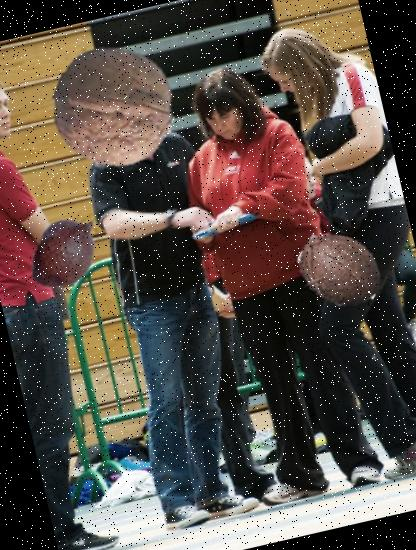Cocos: (288, 218, 392, 320)
Salak: (15, 202, 116, 302)
Walnut: (41, 34, 187, 180)
